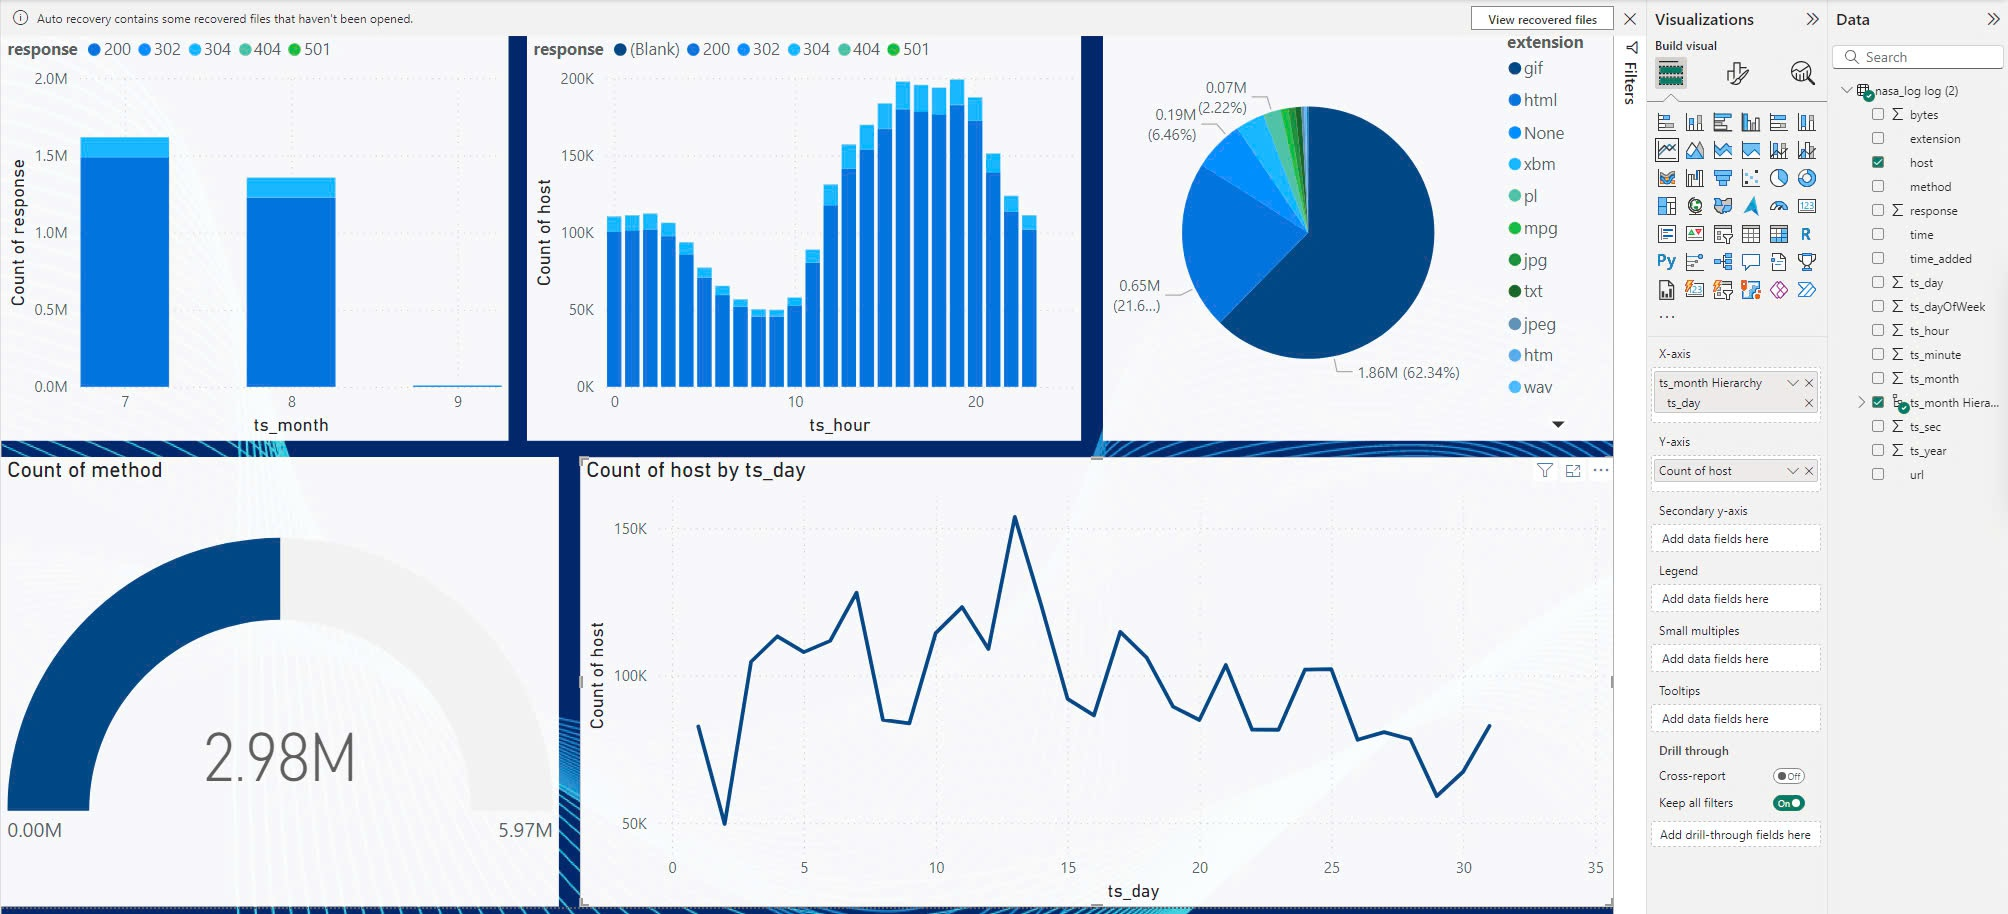

The dashboard page shown, as its layout file describes it:
{"tool":"powerbi","page":{"name":"Page 1","canvas":[1280,720],"ordinal":0},"visuals":[{"type":"columnChart","fields":{"Category":["nasa_log log (2).ts_month"],"Series":["nasa_log log (2).response"],"Y":["CountNonNull(nasa_log log (2).response)"]},"box":[0,0,402.7,350.5],"z":0},{"type":"columnChart","fields":{"Series":["nasa_log log (2).response"],"Category":["nasa_log log (2).ts_hour"],"Y":["CountNonNull(nasa_log log (2).host)"]},"box":[418,0,439.7,350.5],"z":2000},{"type":"gauge","fields":{"Y":["CountNonNull(nasa_log log (2).method)"]},"box":[0,362.9,443.4,357.1],"z":3000},{"type":"pieChart","fields":{"Y":["CountNonNull(nasa_log log (2).extension)"],"Category":["nasa_log log (2).extension"]},"box":[875.1,0,404.9,350.5],"z":3001},{"type":"lineChart","fields":{"Category":["nasa_log log (2).ts_month Hierarchy.ts_day"],"Y":["CountNonNull(nasa_log log (2).host)"]},"box":[459.5,362.9,821,357.1],"z":3002}]}

Visuals, with their boxes in screenshot pixels (x1, y1, x2, y2):
columnChart - nasa_log log (2).ts_month x nasa_log log (2).response: [0, 0, 505, 439]
columnChart - nasa_log log (2).response x nasa_log log (2).ts_hour: [524, 0, 1075, 439]
gauge - CountNonNull(nasa_log log (2).method): [0, 455, 556, 902]
pieChart - CountNonNull(nasa_log log (2).extension) x nasa_log log (2).extension: [1097, 0, 1604, 439]
lineChart - nasa_log log (2).ts_month Hierarchy.ts_day x CountNonNull(nasa_log log (2).host): [576, 455, 1605, 902]
